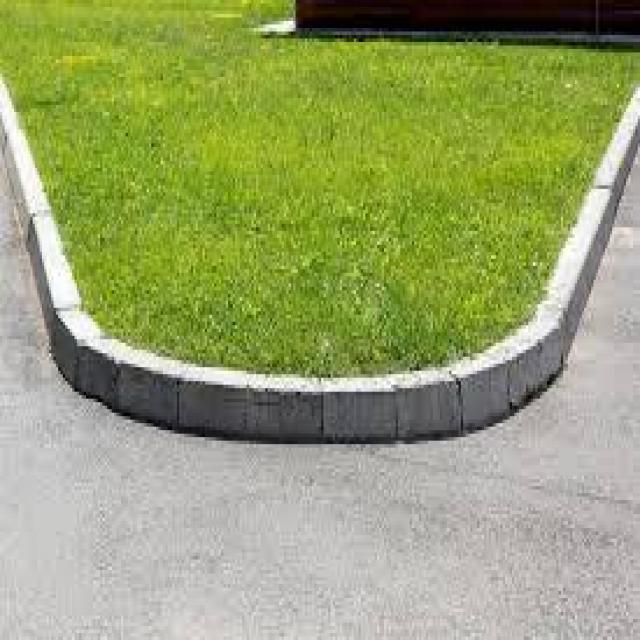bump: (64, 319, 564, 456), (544, 122, 634, 374), (13, 168, 108, 392)
